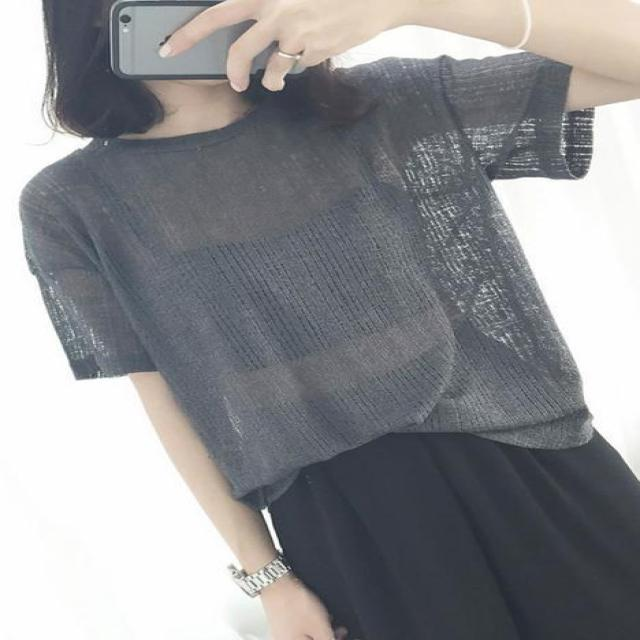short sleeve top: (22, 47, 594, 510)
trousers: (234, 321, 639, 637)
